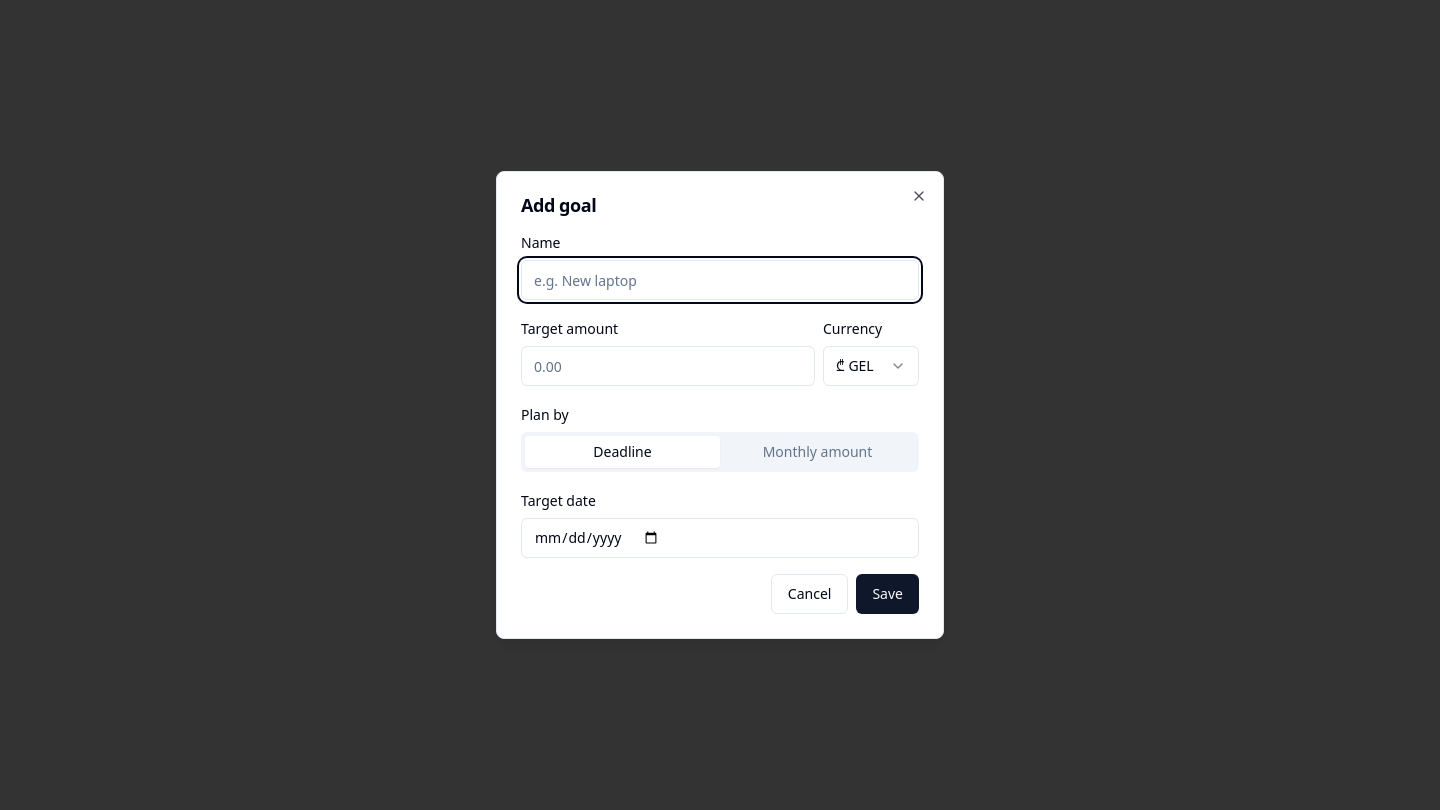
it: GoalDialog › computes the projected completion date live from a monthly amount
Step 1. Type "1500" into the field labelled "Target amount" → coordinates (668, 366), box [521,346,815,386]
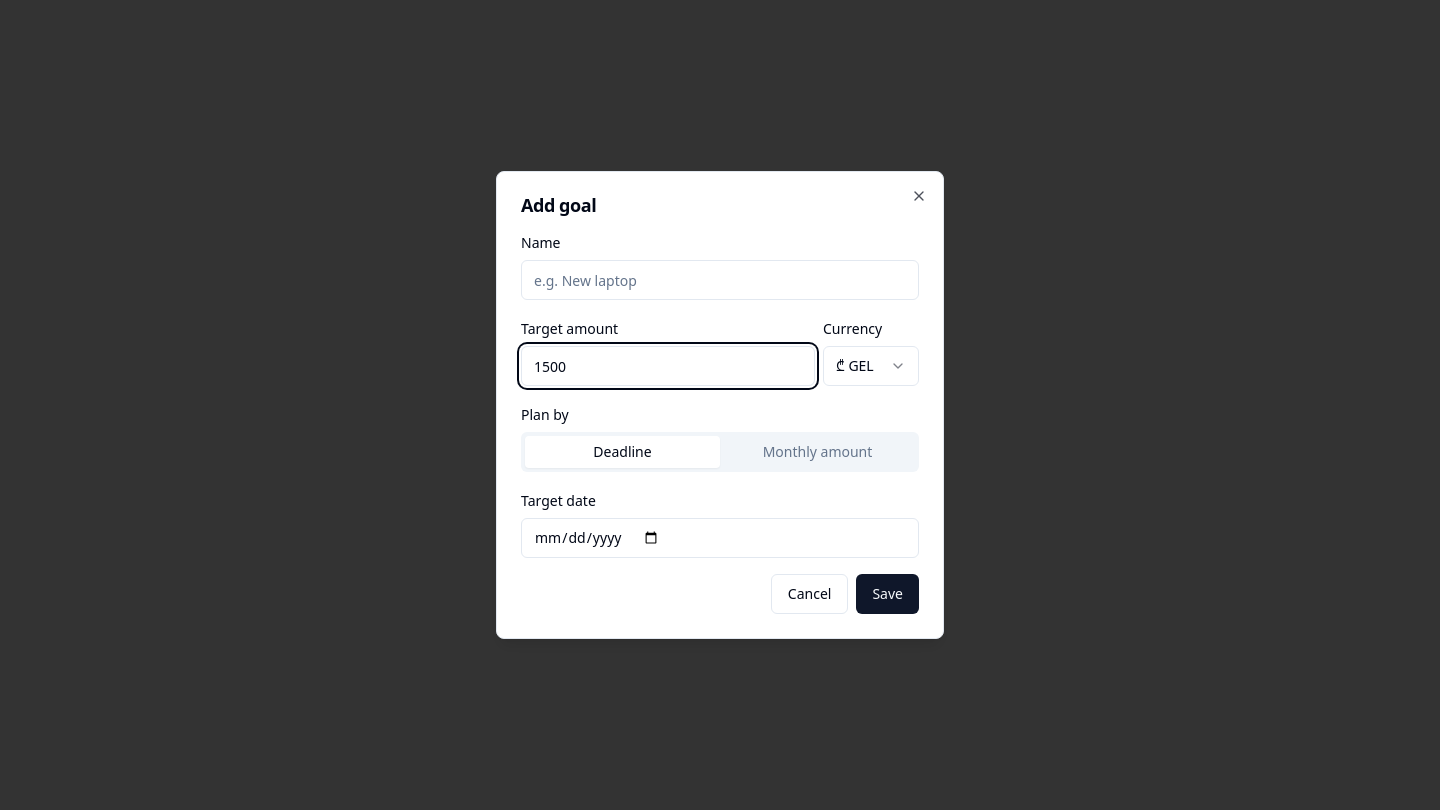
Step 2. Click the tab "Monthly amount" → coordinates (818, 452), box [720,436,915,468]
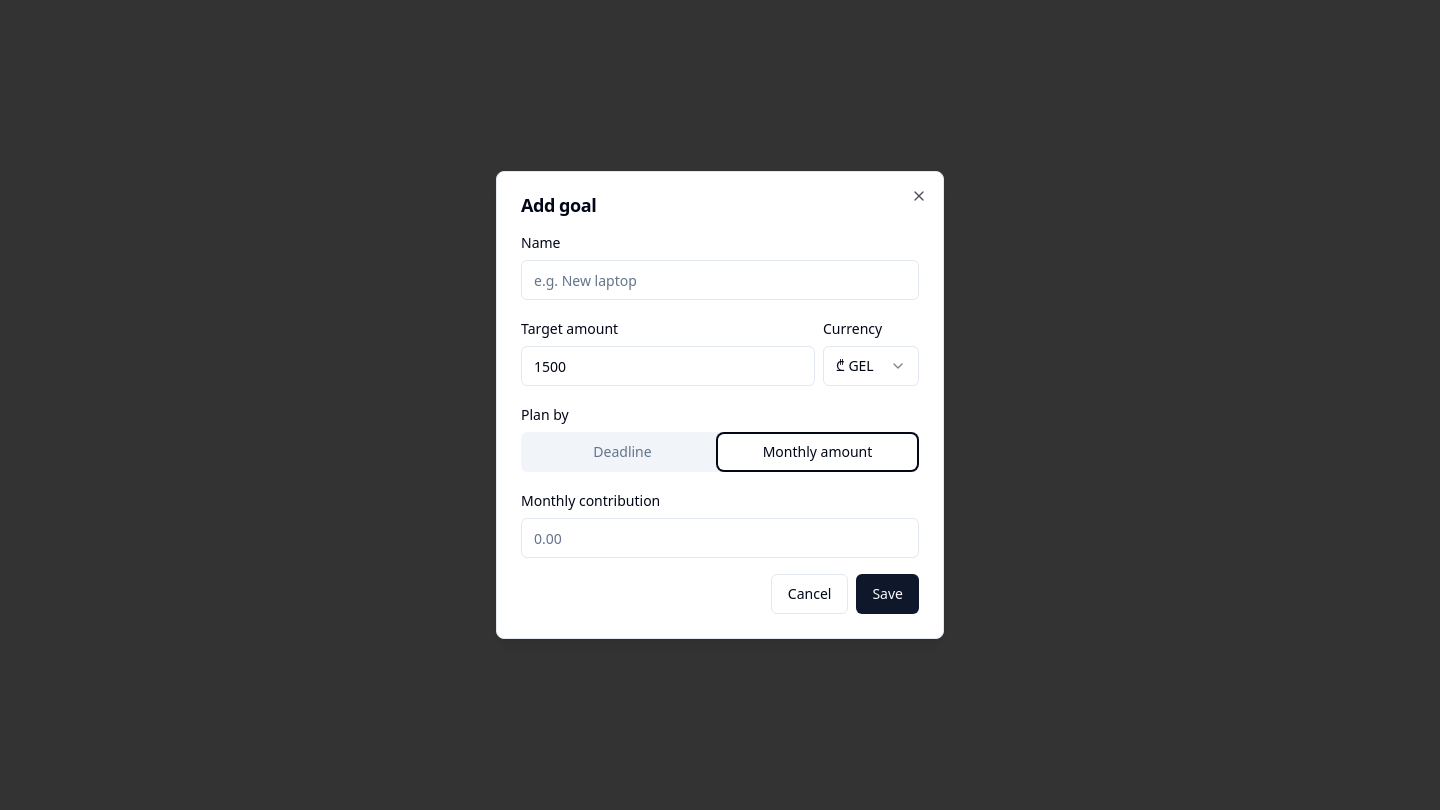
Step 3. Type "500" into the field labelled "Monthly contribution" → coordinates (720, 538), box [521,518,919,558]
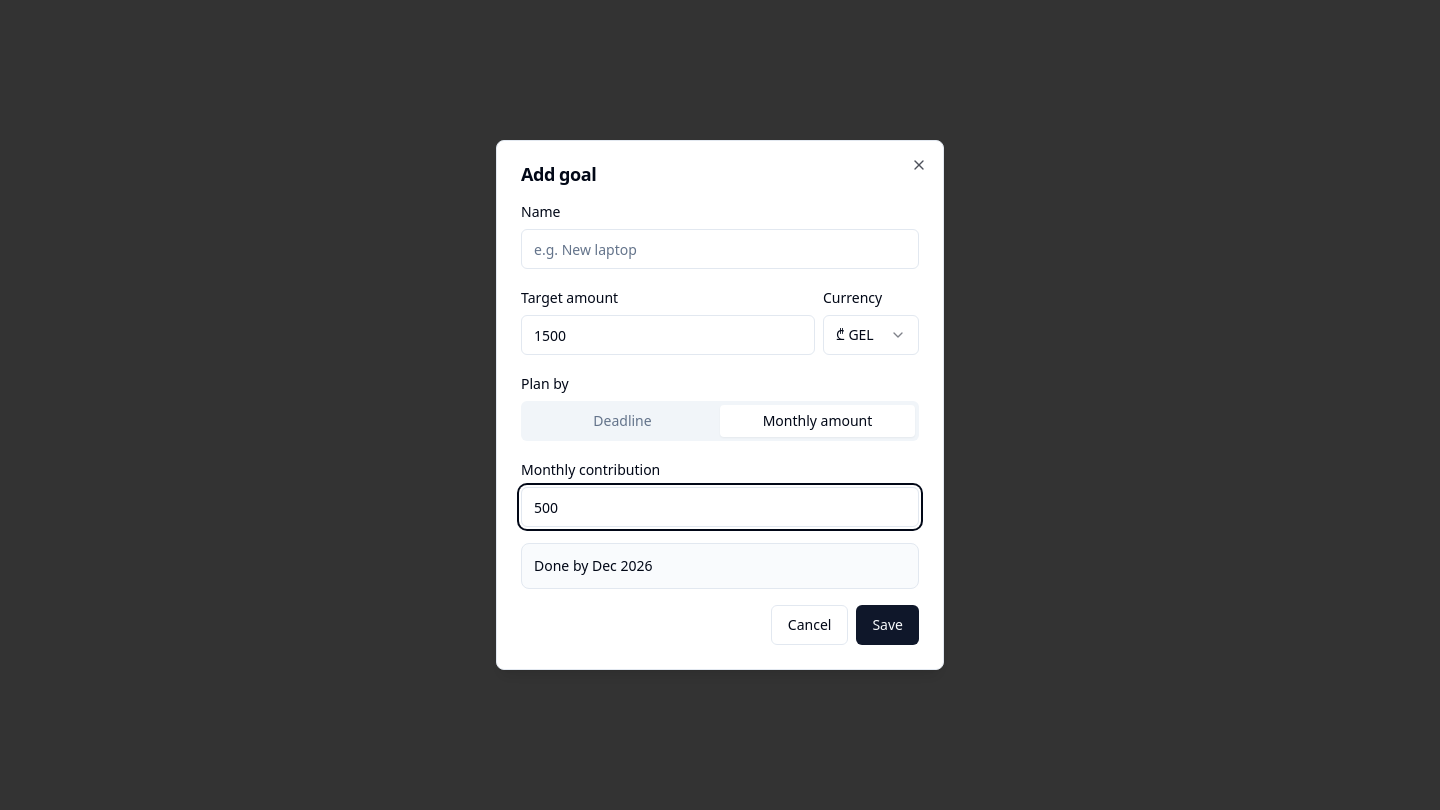
Check: the text "Done by Dec 2026" is shown, box [521,543,919,589]
